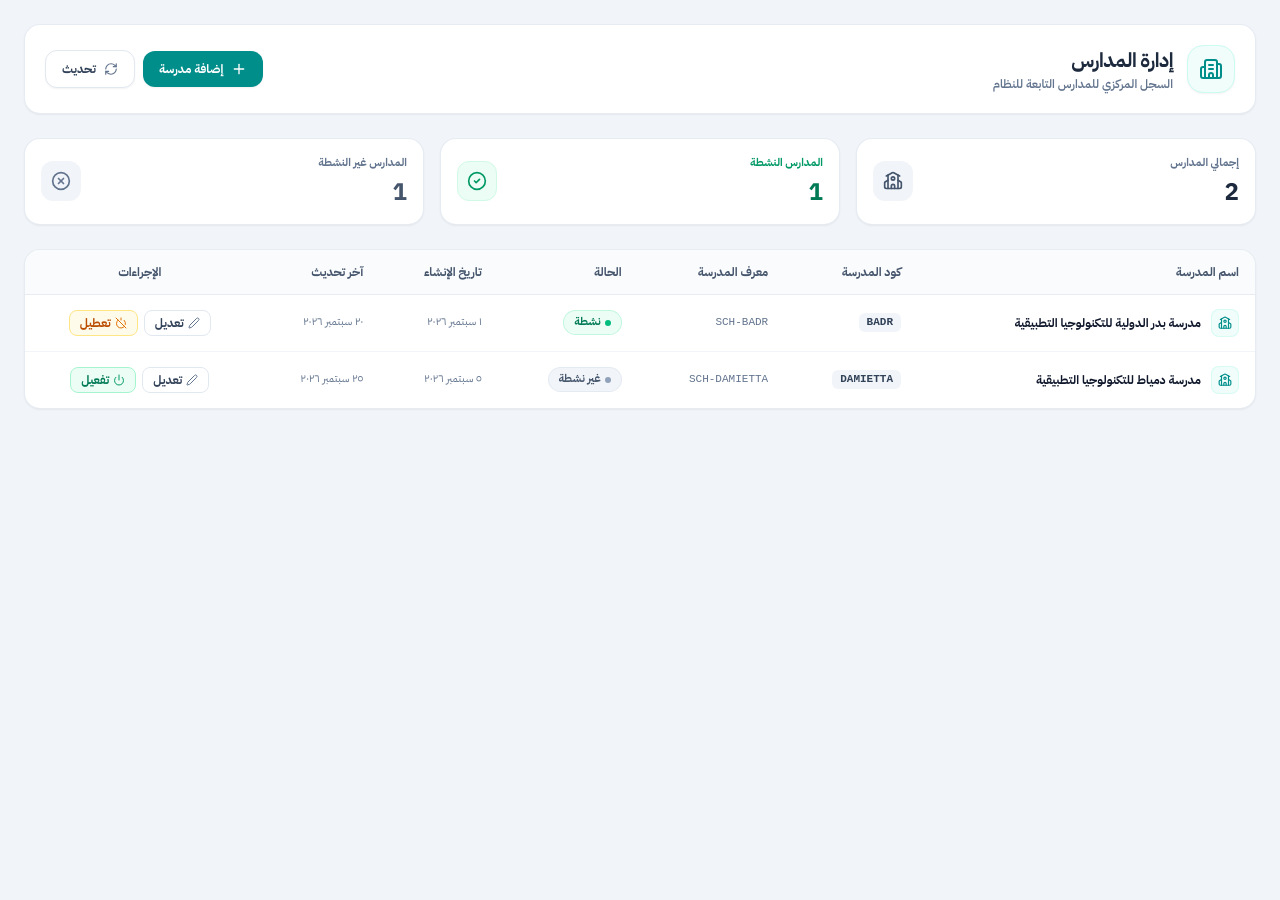
Scenario: PHASE 3C-A14.2.2 — SCHOOL CREATE / EDIT / STATUS UI › 3. Edit School Workflow › Opens edit modal with existing school data and schoolId strictly read-only
Click the button "تعديل" in the row of "مدرسة بدر الدولية للتكنولوجيا التطبيقية".
click(177, 322)  # box [144,310,211,336]
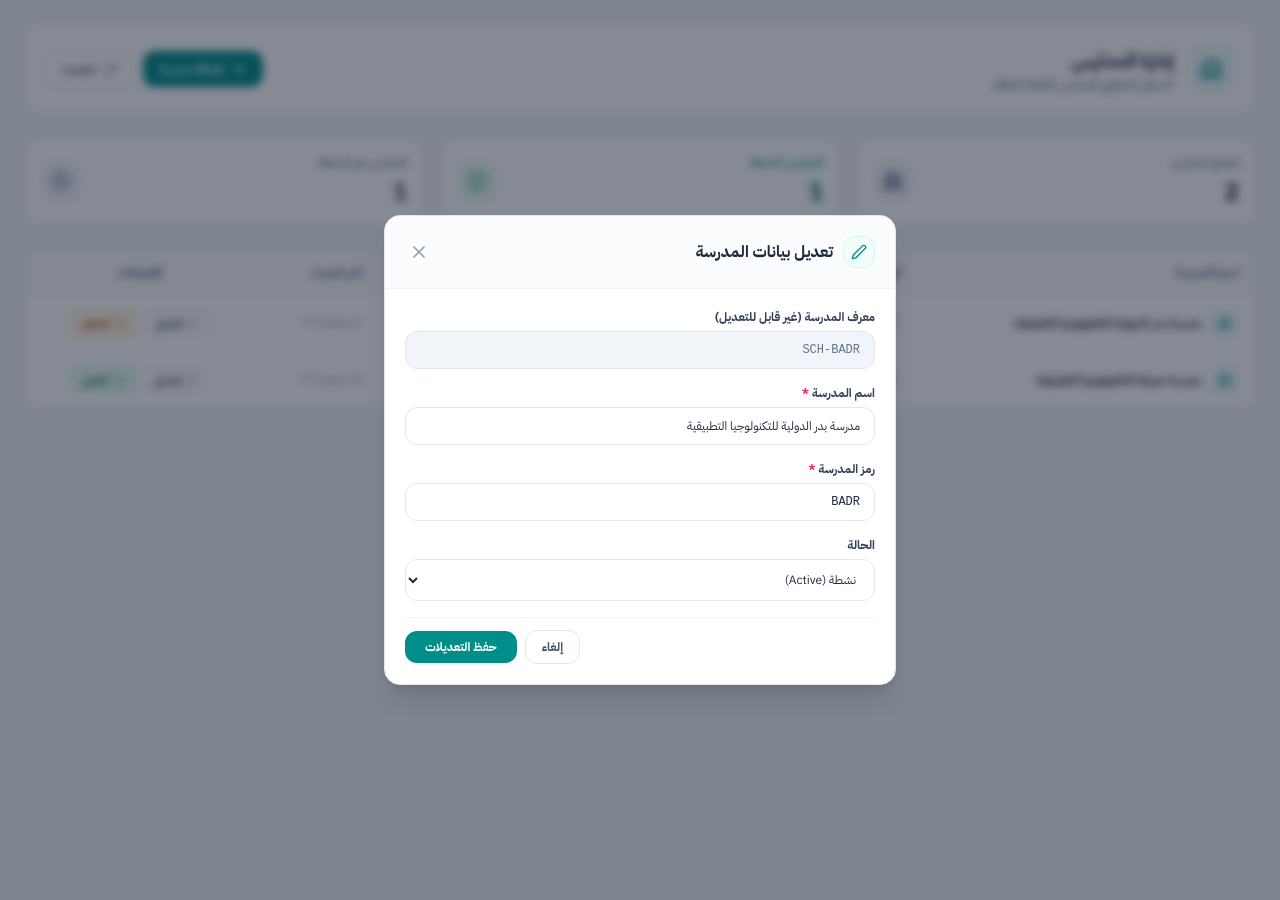
Expected: the text "SCH-BADR" is shown, [638,294,784,351]
Expected: the text "تعديل بيانات المدرسة" is shown, [696,240,833,264]
Expected: the field below "معرف المدرسة (غير قابل للتعديل)" is shown, [405,331,875,369]
